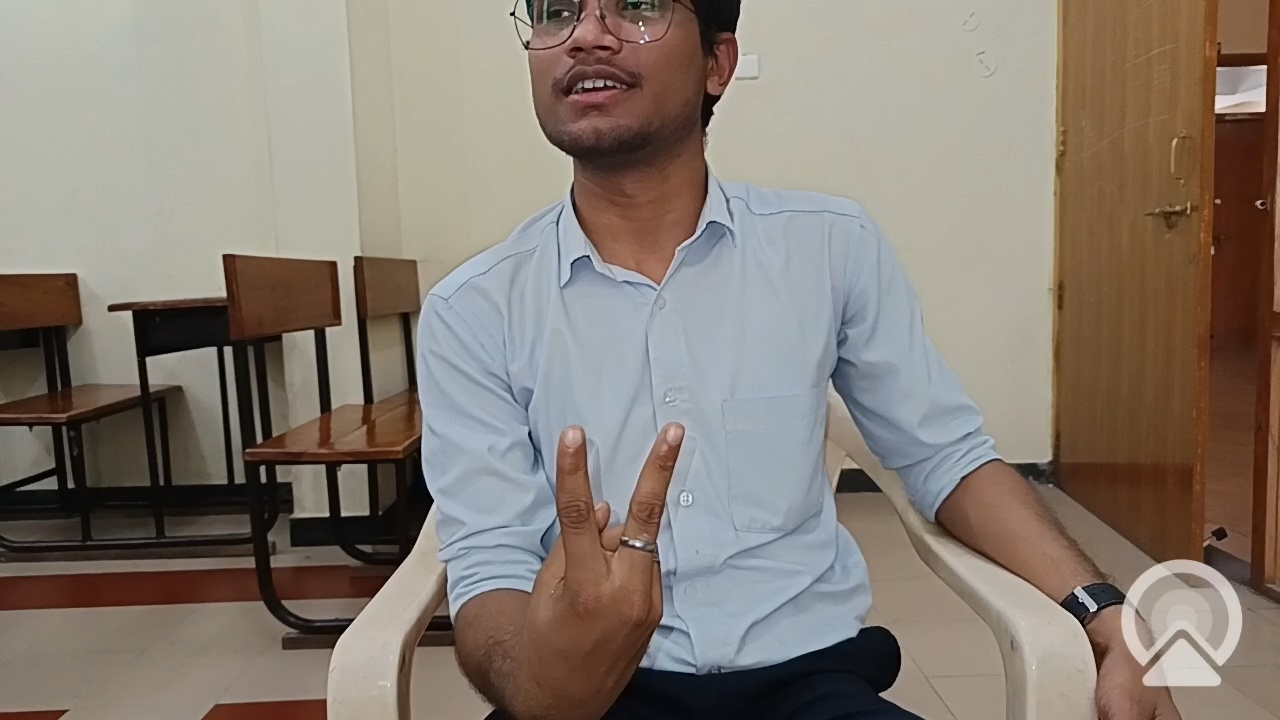V: (460, 392, 747, 720)
